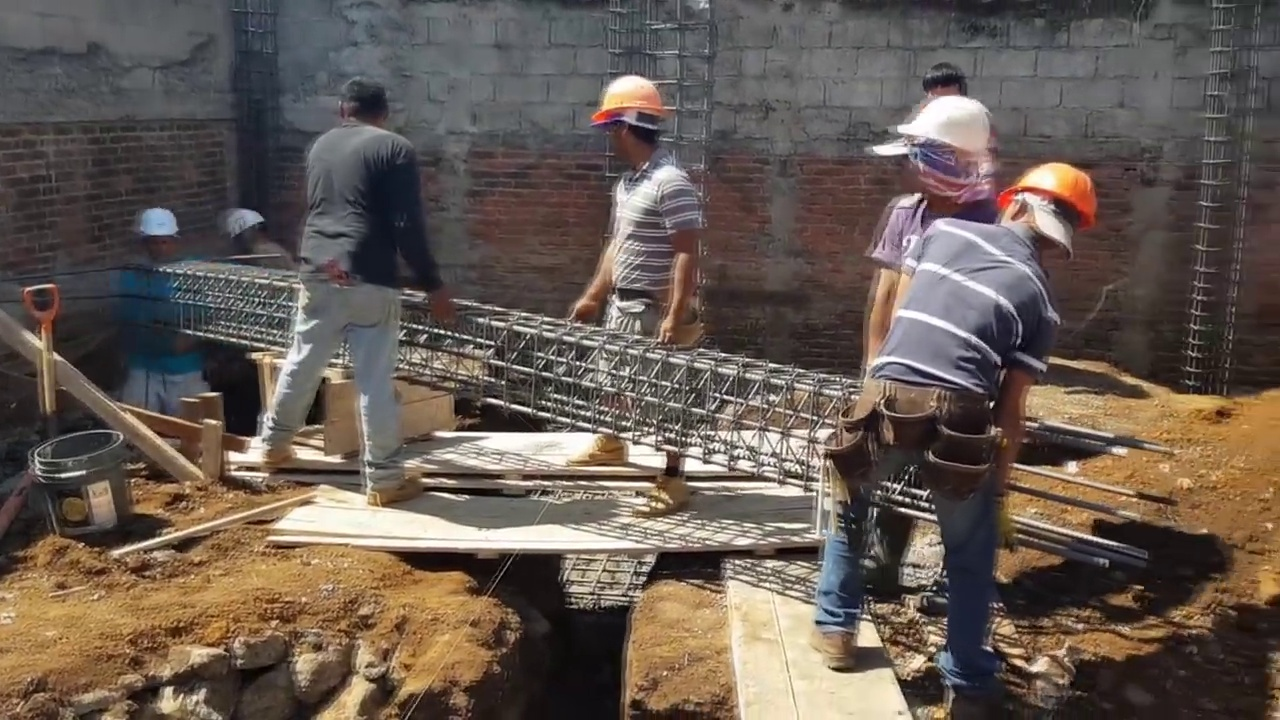helmet: (994, 161, 1098, 231), (866, 100, 992, 156), (590, 72, 670, 133), (136, 205, 181, 237), (223, 210, 264, 240)
helmet-off: (333, 77, 390, 127), (920, 62, 969, 103)
helmet-on: (866, 100, 993, 209), (994, 157, 1100, 267), (589, 72, 670, 171), (136, 207, 179, 263), (224, 209, 266, 252)
person: (812, 156, 1099, 713), (256, 75, 426, 511), (567, 72, 708, 519), (862, 99, 995, 372), (124, 209, 205, 415), (222, 205, 296, 276)
